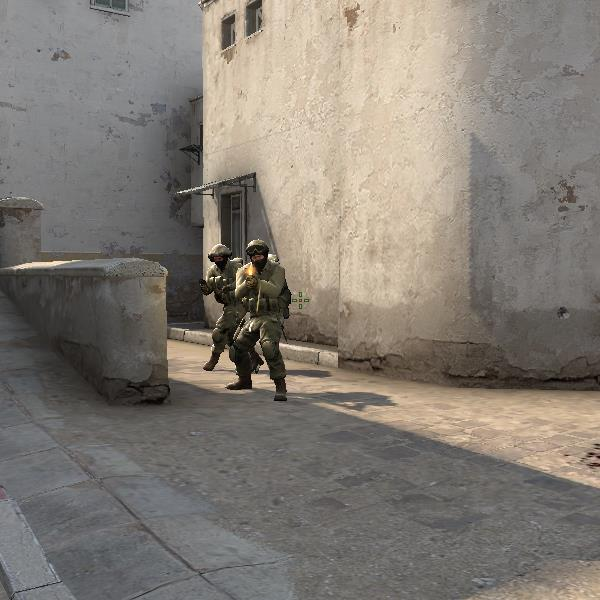ct_body: (193, 244, 245, 368)
ct_head: (207, 245, 234, 271)
